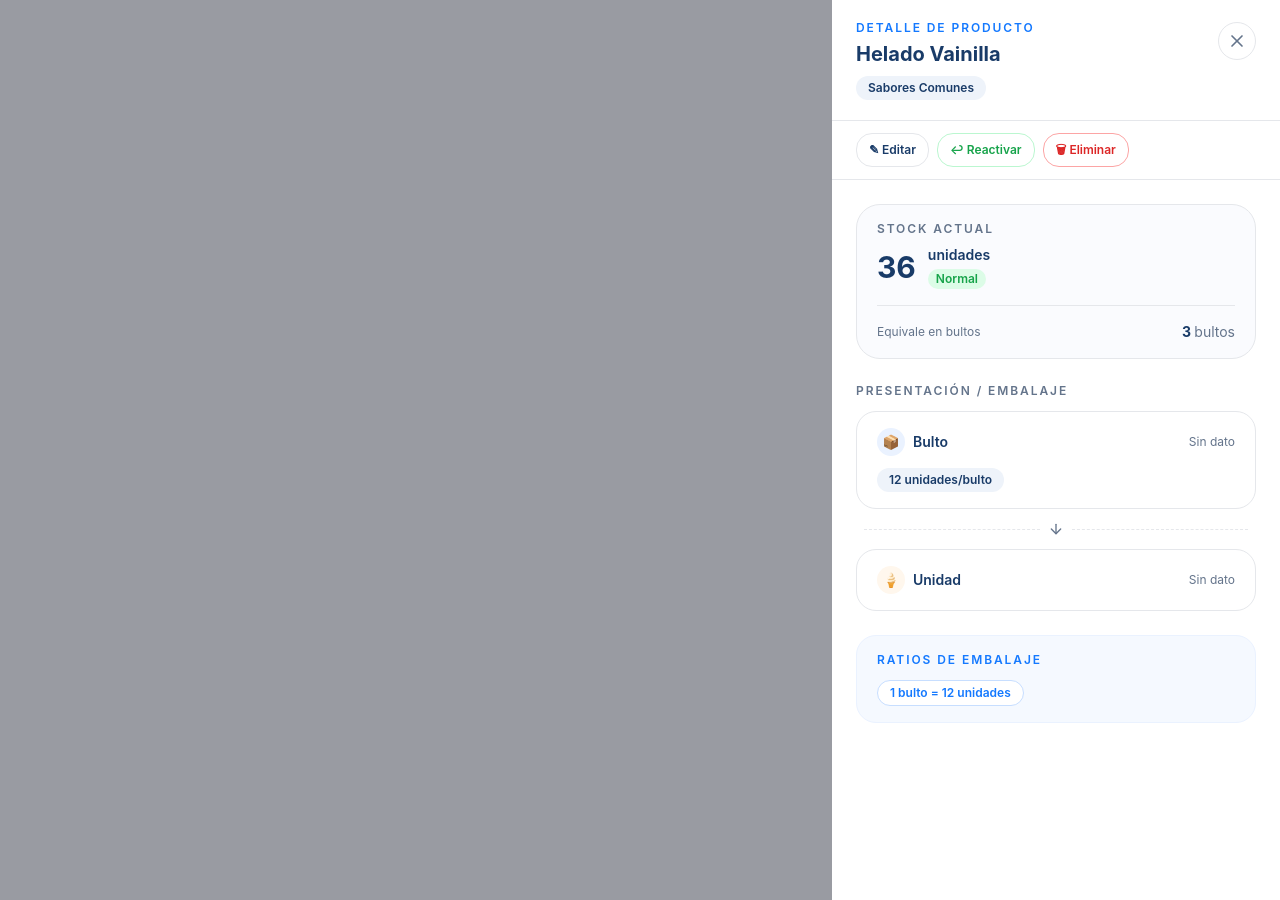
producto inactivo — reactivar y eliminar › oculta la zona de confirmación al cancelar
The image size is (1280, 900).
Click the button "🗑 Eliminar". click: (1086, 150)
box: [1042,133,1129,167]
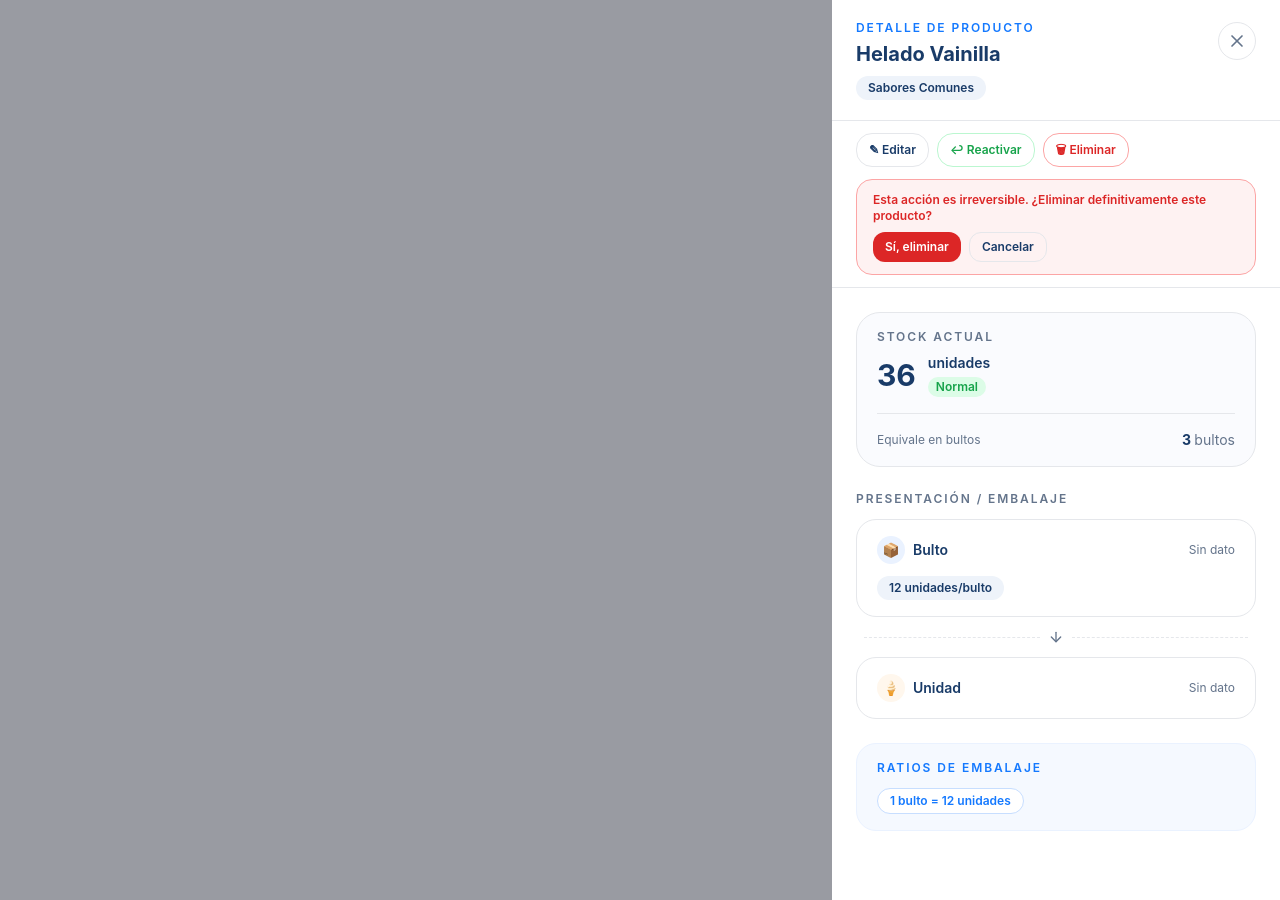
Click the button "Cancelar". click: (1008, 247)
box: [969,232,1047,262]
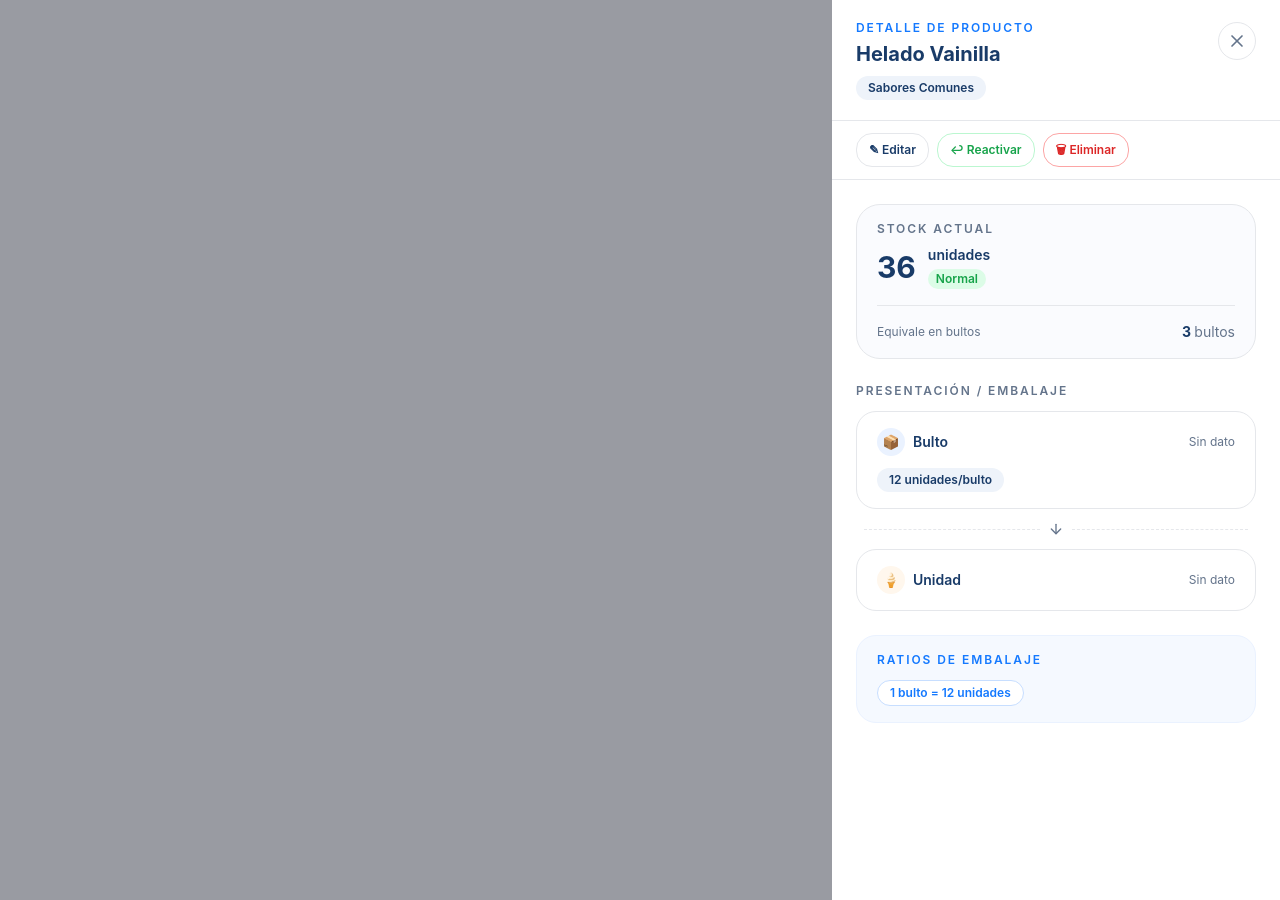
Expected: the text "Esta acción es irreversible" is gone
